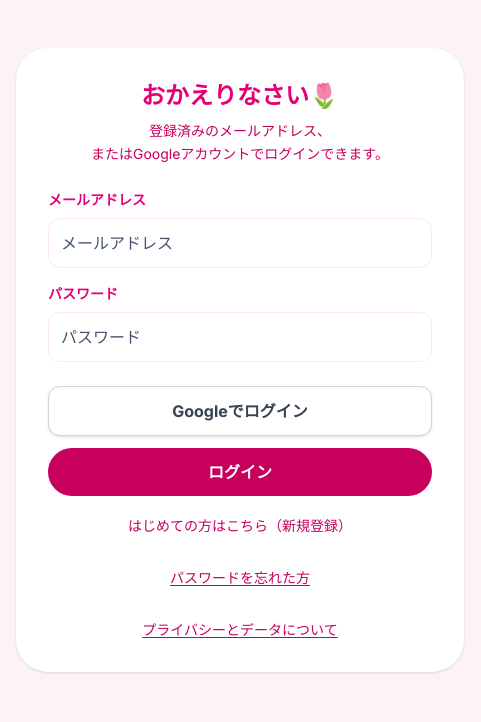
Test: LoginPage › Enter送信でも入力エラーへフォーカスし、修正時に古いエラーを消す
Submit the form, box [48, 190, 432, 544]
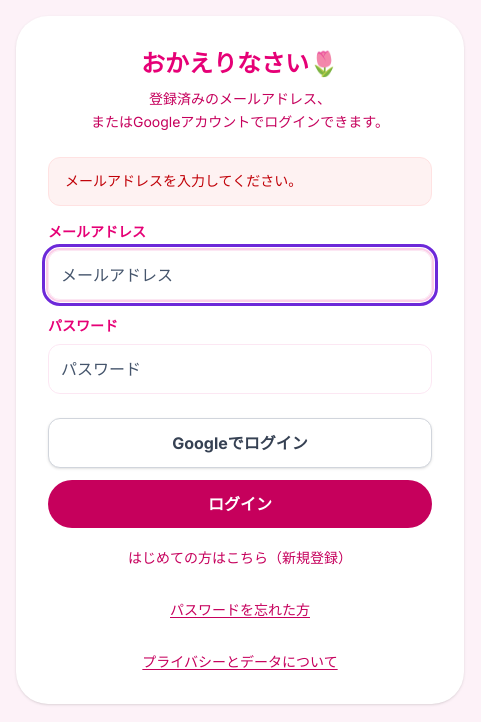
Result: the text "メールアドレスを入力してください。" is shown at [48, 157, 432, 206]
Type "user@example.com" into the field labelled "メールアドレス" at point(240, 275), box [48, 250, 432, 300]
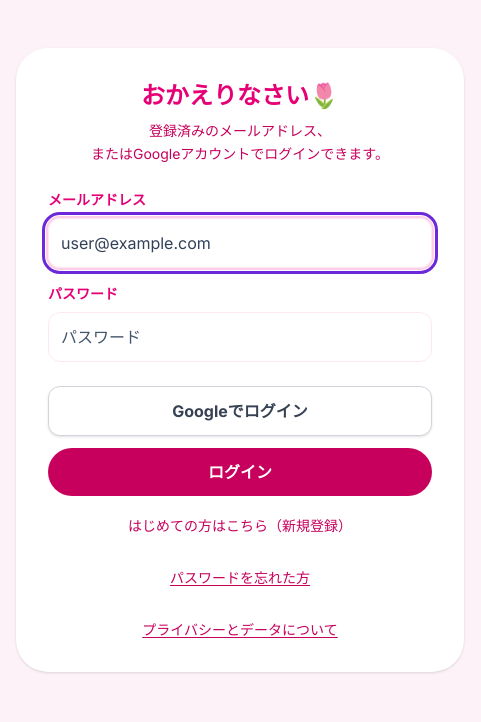
Submit the form, box [48, 190, 432, 544]
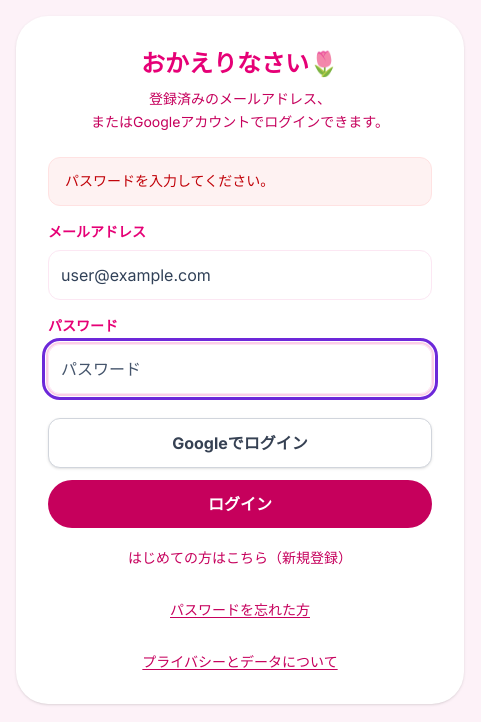
Result: the text "パスワードを入力してください。" is shown at [48, 157, 432, 206]
Type "secret" into the password field labelled "パスワード" at point(240, 369), box [48, 344, 432, 394]
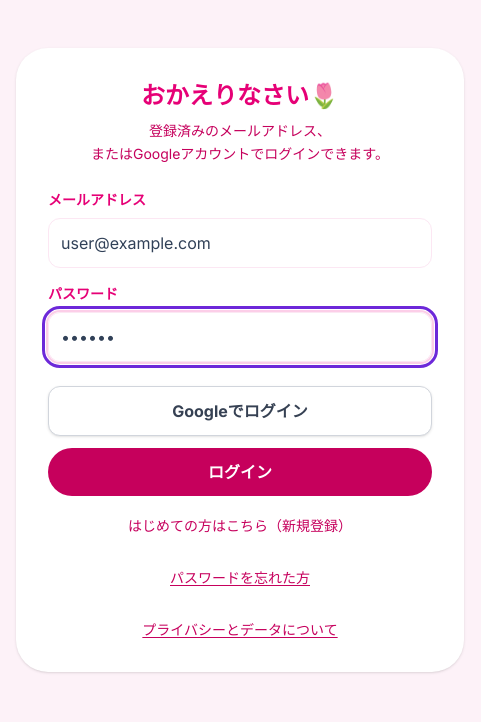
Result: the message "パスワードを入力してください。" is gone
